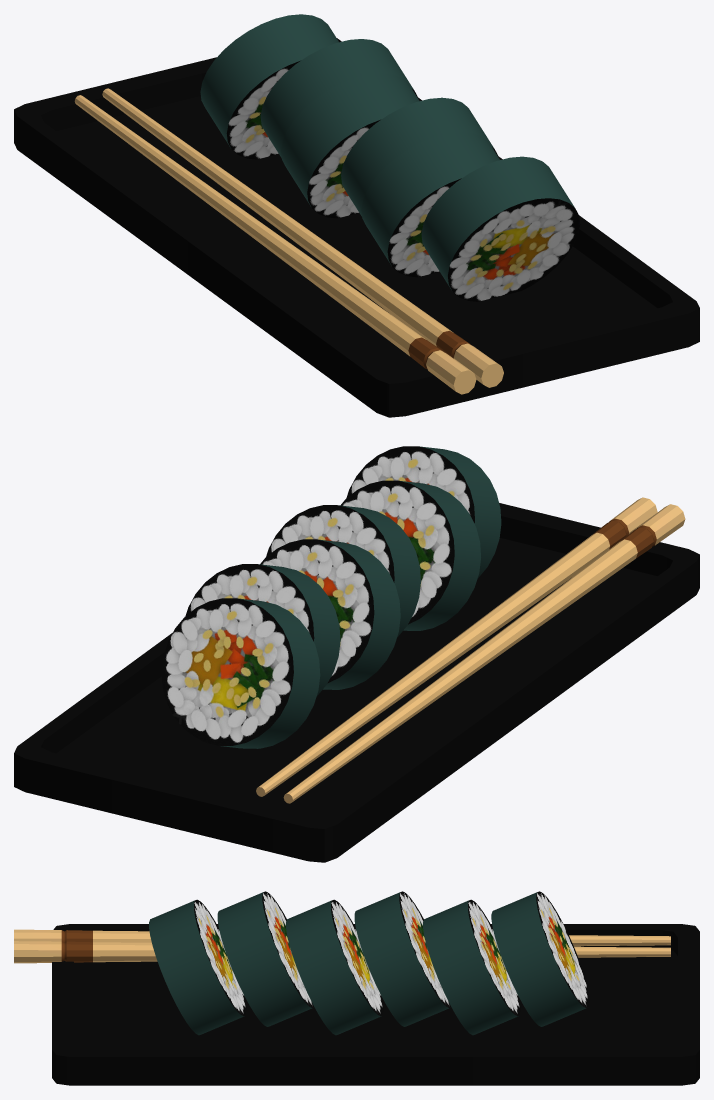
The model's file is uploads_files_3644754_Sushi_Fbx.fbx.
The picture shows the model from 3 angles, top to bottom: view 1: azimuth 30°, elevation 25°; view 2: azimuth 150°, elevation 25°; view 3: azimuth 270°, elevation 25°; orthographic projection. The views are drawn at different scales.
Visible parts, largest first — view 1: group1, Kimbap (×6), Choptick (×2); view 2: group1, Kimbap (×6), Choptick (×2); view 3: group1, Kimbap (×6), Choptick (×2).
Part boxes in pixels (box(x1,y1,x2,y2)): group1: box(14, 38, 699, 417); Kimbap (×6): box(200, 14, 580, 301); Choptick (×2): box(74, 88, 503, 394); group1: box(14, 503, 699, 862); Kimbap (×6): box(161, 446, 501, 748); Choptick (×2): box(256, 497, 685, 803); group1: box(52, 924, 699, 1085); Kimbap (×6): box(149, 891, 589, 1035); Choptick (×2): box(14, 929, 670, 963).
Bounding box in the file's own units: 9.61 × 4.35 × 20.95.
Materials: 1 (1 with a texture image).
